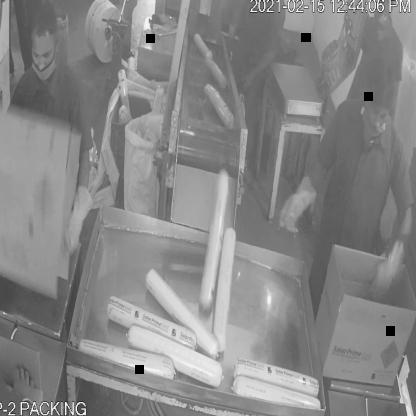glove: (278, 169, 322, 244), (365, 232, 403, 308), (61, 174, 98, 249)
no_glove: (238, 40, 285, 93), (2, 360, 40, 406)
